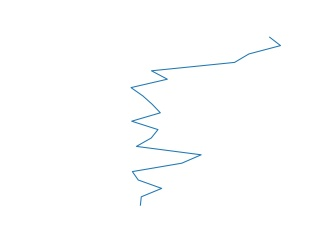crevasseRiverChannelBar: (122, 34, 285, 208)
